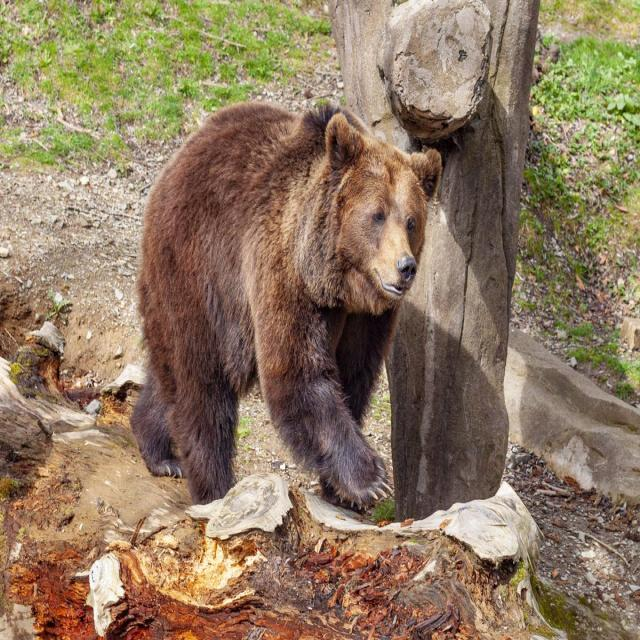Bear: (130, 101, 445, 515)
